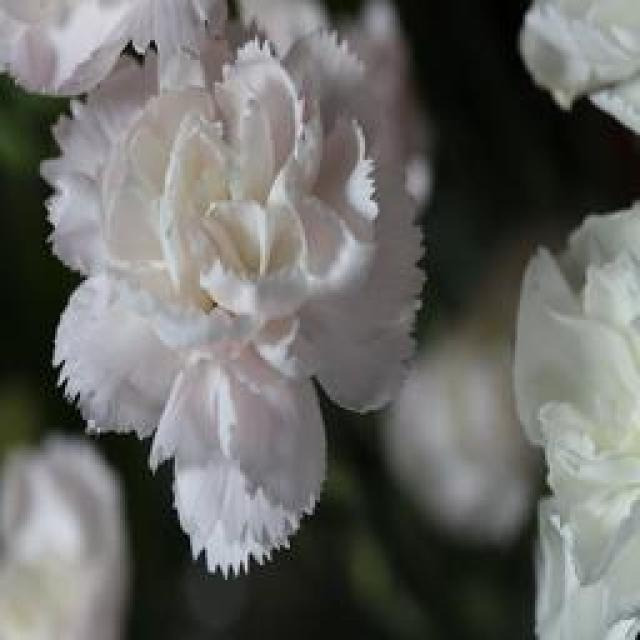carnation: (36, 41, 452, 506)
